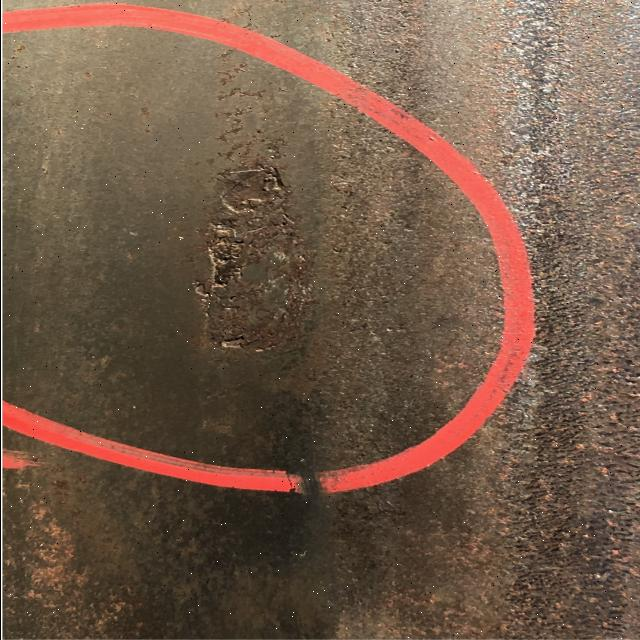boli: (183, 148, 323, 362)
